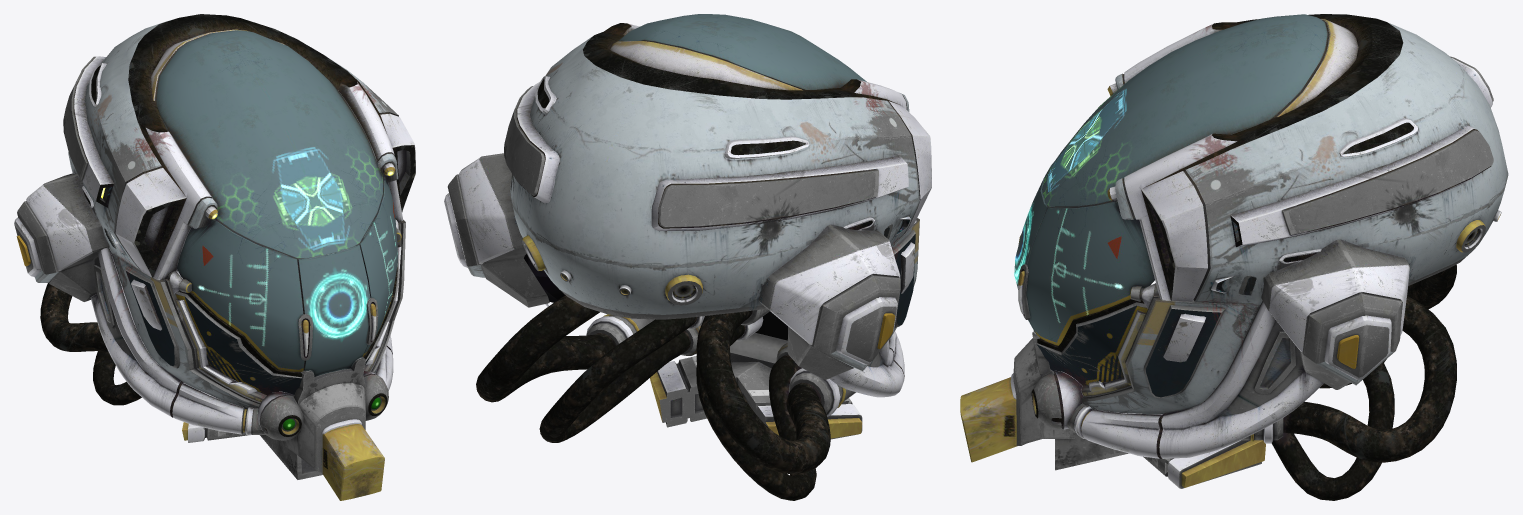
File: Helmet3D.glb
3 views of the same model, side by side, from view 1: azimuth 30°, elevation 25°; view 2: azimuth 150°, elevation 25°; view 3: azimuth 270°, elevation 25° (orthographic). The views are drawn at different scales.
Visible parts, largest first — view 1: node_damagedHelmet_-6514; view 2: node_damagedHelmet_-6514; view 3: node_damagedHelmet_-6514.
Boxes of the visible parts, x1,y1,x2,y2 form: node_damagedHelmet_-6514: [14, 14, 415, 500]; node_damagedHelmet_-6514: [444, 14, 931, 500]; node_damagedHelmet_-6514: [960, 14, 1508, 500].
Bounding box in the file's own units: 1.89 × 1.8 × 2.09.
1 material, 1 textured.
